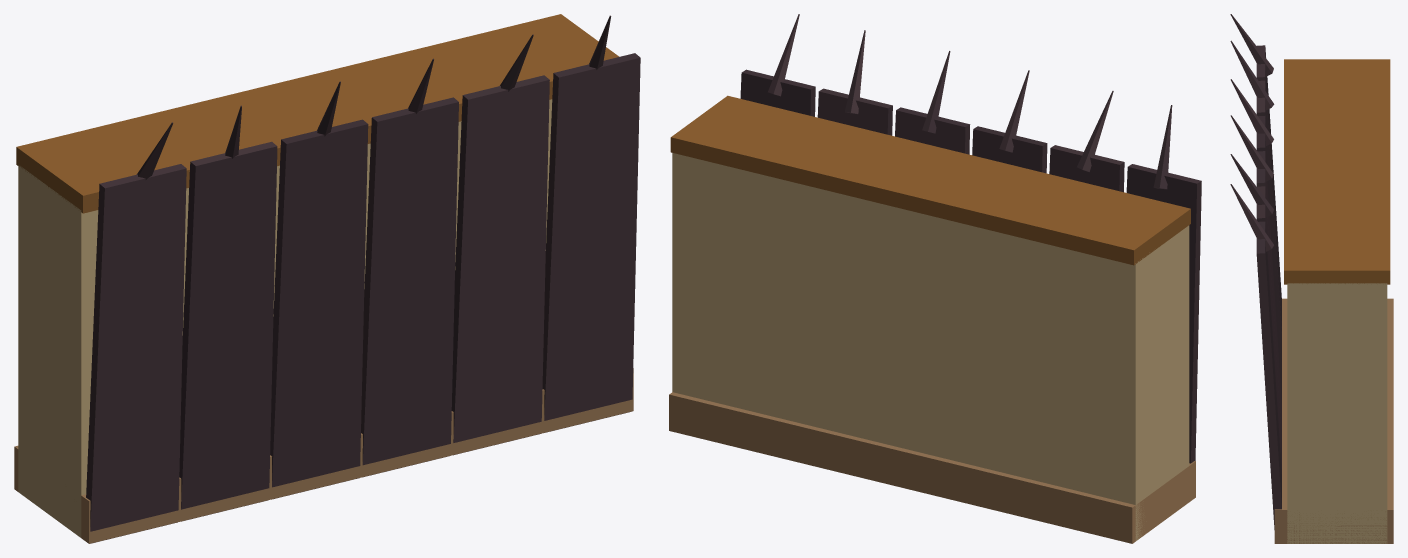
Rendered from walk_hive_wall.glb.
The picture shows the model from 3 angles, left to right: view 1: azimuth 30°, elevation 25°; view 2: azimuth 150°, elevation 25°; view 3: azimuth 270°, elevation 25°; orthographic projection. The views are drawn at different scales.
Visible parts, largest first — view 1: walk_hive_wall; view 2: walk_hive_wall; view 3: walk_hive_wall.
Part boxes in pixels (<box>): walk_hive_wall: <box>14,14,640,543</box>; walk_hive_wall: <box>669,14,1201,543</box>; walk_hive_wall: <box>1230,14,1393,543</box>.
Size of what is drawn, in the model's own units: 8 by 6.01 by 2.61.
1 material, 1 textured.
